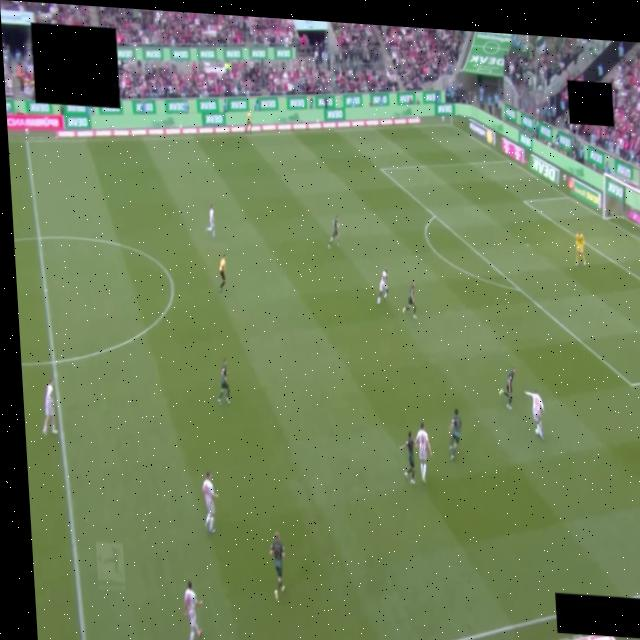ball: (535, 427, 540, 435)
player: (39, 379, 58, 436), (184, 581, 201, 639), (415, 423, 431, 482), (270, 532, 284, 599), (202, 472, 217, 533), (525, 393, 543, 440), (399, 432, 414, 484), (499, 367, 515, 409), (449, 409, 461, 460), (217, 359, 229, 404), (402, 281, 415, 319), (327, 216, 339, 248), (575, 230, 585, 265), (377, 270, 387, 303), (206, 205, 214, 236), (332, 640, 345, 640)
referee: (218, 254, 226, 292)
